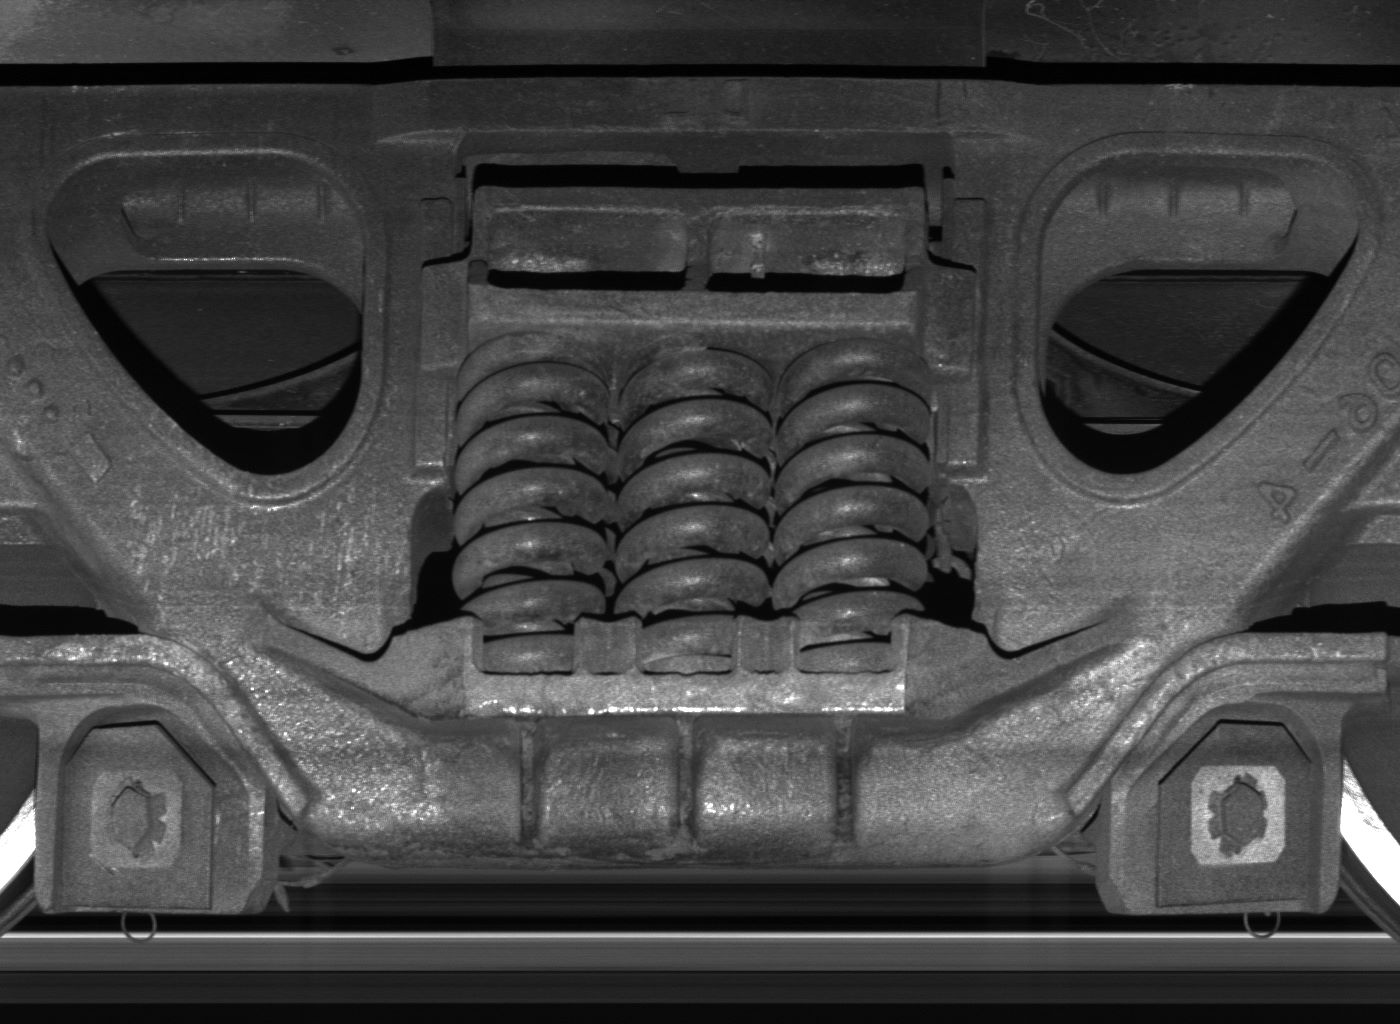normal: (1107, 705, 1340, 916), (37, 705, 262, 911)
